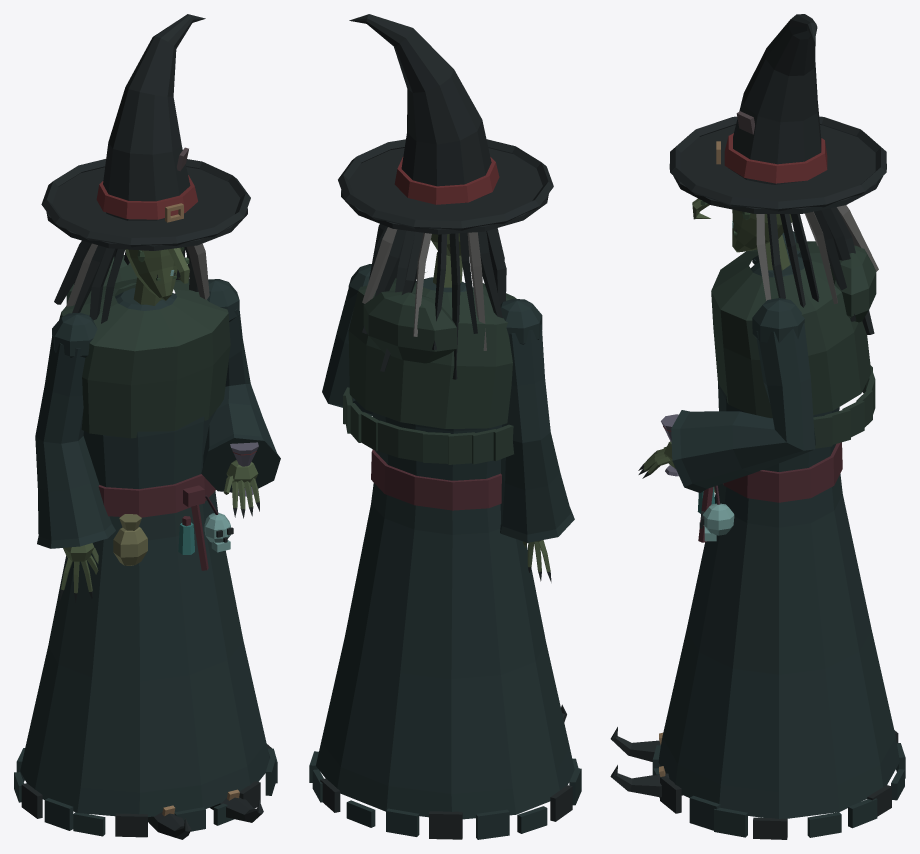
File: vrajitoare_salon_1.glb
3 views of the same model, side by side, from view 1: azimuth 30°, elevation 25°; view 2: azimuth 150°, elevation 25°; view 3: azimuth 270°, elevation 25° (orthographic). The views are drawn at different scales.
Visible parts, largest first — view 1: Corp, Cap, BratDrept, BratStang; view 2: Corp, Cap, BratDrept, BratStang; view 3: Corp, Cap, BratStang.
Boxes of the visible parts, x1,y1,x2,y2 form: Corp: (14,255,277,839); Cap: (41,14,250,323); BratDrept: (35,312,115,602); BratStang: (201,279,280,518); Corp: (309,272,581,839); Cap: (338,14,553,379); BratDrept: (500,298,574,582); BratStang: (322,264,372,416); Corp: (610,241,905,839); Cap: (669,14,886,334); BratStang: (638,298,815,492).
Size of the model in its own units: 0.7046 by 2.16 by 0.7328.
